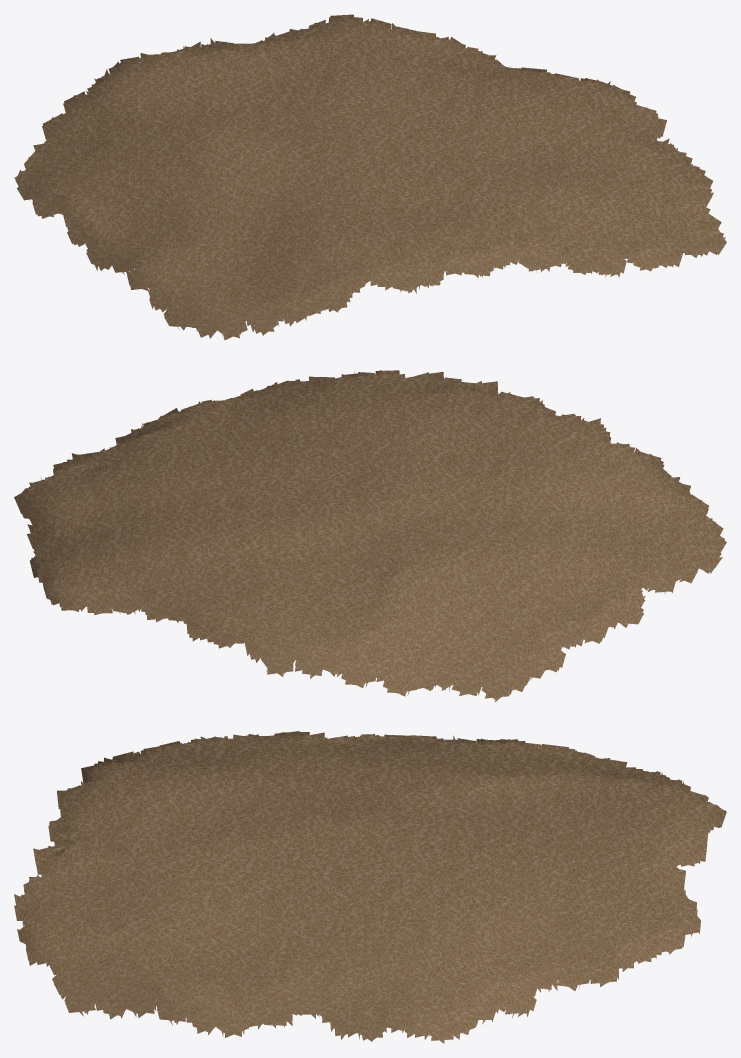
File: meadow_SM_Env_Grass_Large_03.gltf
3 views of the same model, one above another, from view 1: azimuth 30°, elevation 25°; view 2: azimuth 150°, elevation 25°; view 3: azimuth 270°, elevation 25° (orthographic). The views are drawn at different scales.
Parts seen in each view (by area): view 1: SM_Env_Grass_Large_03_LOD0; view 2: SM_Env_Grass_Large_03_LOD0; view 3: SM_Env_Grass_Large_03_LOD0.
Boxes of the visible parts, x1,y1,x2,y2 form: SM_Env_Grass_Large_03_LOD0: [14, 14, 726, 339]; SM_Env_Grass_Large_03_LOD0: [14, 370, 726, 702]; SM_Env_Grass_Large_03_LOD0: [14, 731, 726, 1043].
Size of what is drawn, in the model's own units: 34.52 by 4.06 by 34.71.
Materials: 1 (1 with a texture image).
